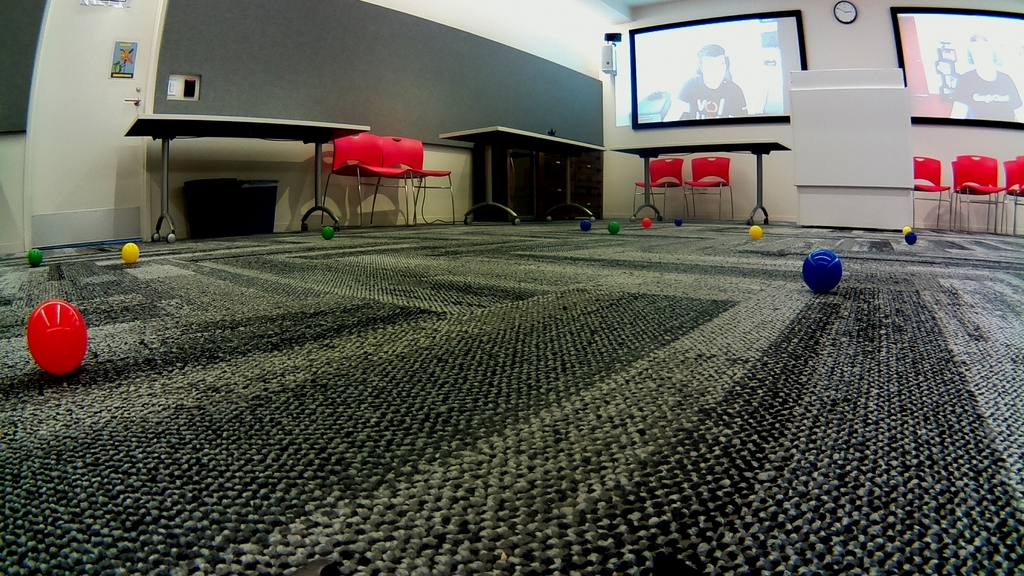ball: (29, 249, 43, 267)
